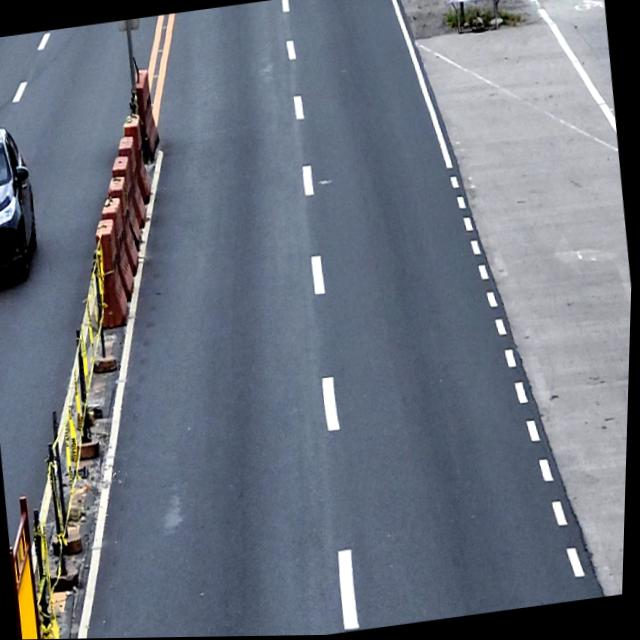Car: (0, 120, 46, 283)
